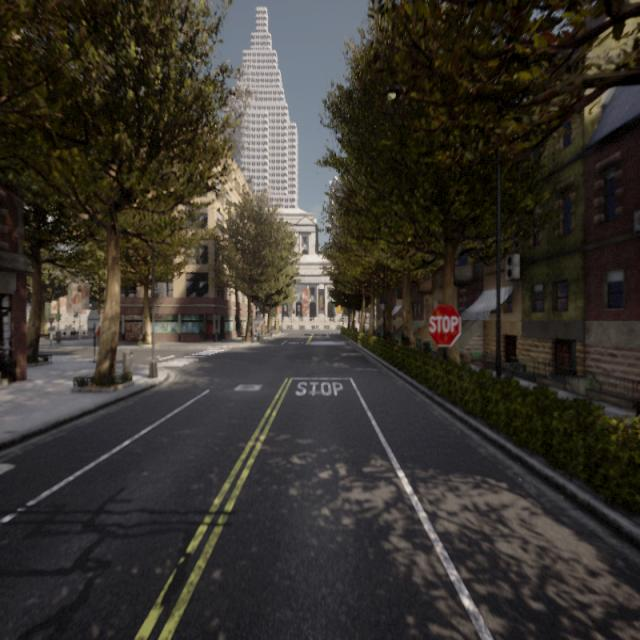stop sign: (426, 301, 462, 349)
